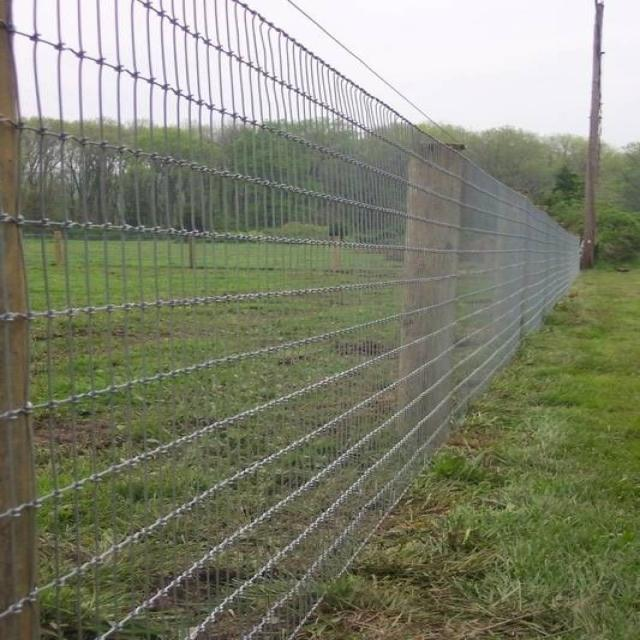fence: (0, 0, 554, 639)
